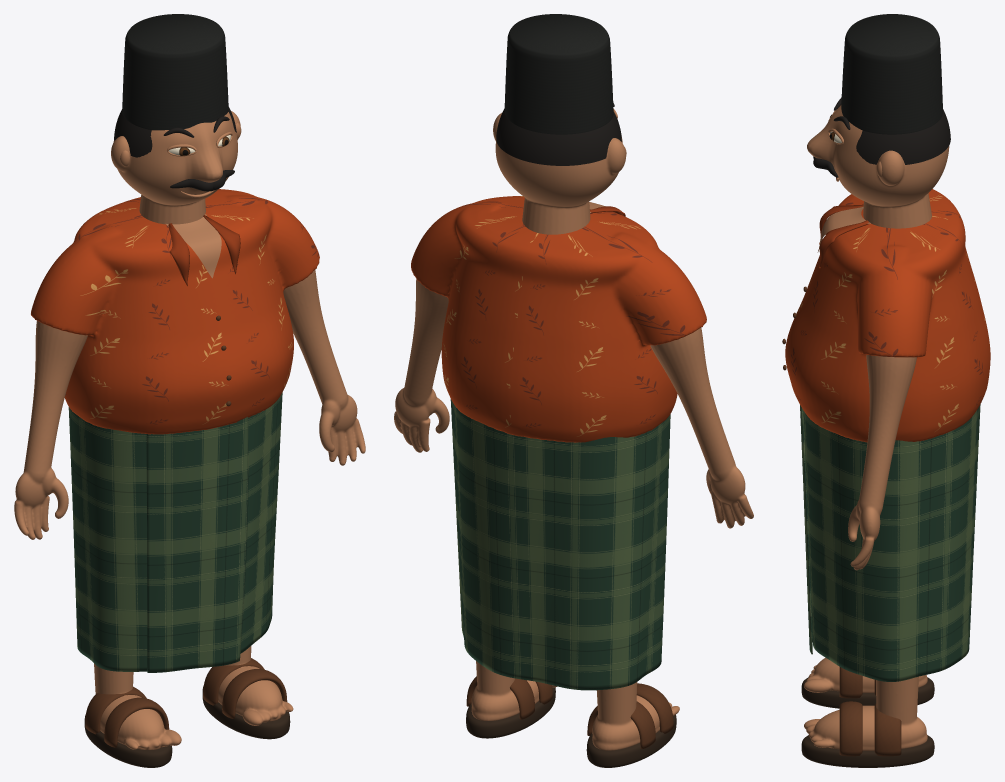
The model's file is pak_mat_D.glb.
3 views of the same model, side by side, from view 1: azimuth 30°, elevation 25°; view 2: azimuth 150°, elevation 25°; view 3: azimuth 270°, elevation 25° (orthographic). The views are drawn at different scales.
Parts seen in each view (by area): view 1: D_batik_shirt, D_sarong_wrap, D_sarong_front_overlap, D_songkok, D_head_neck_ears, D_right_arm_hand, D_left_arm_hand, D_feet_ankles, D_sandal_straps, D_sandal_soles, D_upper_chest_inset, D_batik_collar (+1 smaller); view 2: D_batik_shirt, D_sarong_wrap, D_songkok, D_right_arm_hand, D_head_neck_ears, D_left_arm_hand, D_feet_ankles, D_hair, D_sandal_soles, D_sandal_straps; view 3: D_sarong_wrap, D_batik_shirt, D_songkok, D_head_neck_ears, D_left_arm_hand, D_feet_ankles, D_sandal_soles, D_sandal_straps, D_hair, D_sarong_front_overlap, D_batik_collar, D_upper_chest_inset.
Part boxes in pixels (box(x1,y1,x2,y2)): D_batik_shirt: box(31, 189, 319, 434); D_sarong_wrap: box(68, 392, 282, 671); D_sarong_front_overlap: box(147, 417, 248, 672); D_songkok: box(122, 14, 228, 130); D_head_neck_ears: box(111, 111, 240, 224); D_right_arm_hand: box(14, 320, 87, 539); D_left_arm_hand: box(283, 270, 365, 465); D_feet_ankles: box(93, 646, 293, 750); D_sandal_straps: box(85, 658, 287, 747); D_sandal_soles: box(84, 686, 290, 767); D_upper_chest_inset: box(166, 214, 221, 278); D_batik_collar: box(168, 215, 240, 286); D_batik_shirt: box(411, 196, 706, 442); D_sarong_wrap: box(450, 399, 670, 690); D_songkok: box(504, 14, 613, 134); D_right_arm_hand: box(650, 328, 753, 528); D_head_neck_ears: box(493, 110, 625, 234); D_left_arm_hand: box(394, 279, 449, 452); D_feet_ankles: box(471, 661, 679, 750); D_hair: box(496, 108, 621, 165); D_sandal_soles: box(466, 687, 676, 767); D_sandal_straps: box(466, 676, 673, 748); D_sarong_wrap: box(803, 404, 980, 681); D_batik_shirt: box(785, 189, 990, 442); D_songkok: box(841, 14, 943, 134); D_head_neck_ears: box(807, 105, 949, 228); D_left_arm_hand: box(848, 355, 916, 570); D_feet_ankles: box(804, 657, 927, 750); D_sandal_soles: box(801, 677, 934, 767); D_sandal_straps: box(839, 667, 901, 756); D_hair: box(856, 109, 950, 164); D_sarong_front_overlap: box(800, 405, 812, 654); D_batik_collar: box(819, 204, 869, 267); D_upper_chest_inset: box(817, 206, 870, 252).
Bounding box in the file's own units: 0.8749 × 1.66 × 0.4529.
12 materials, 6 textured.
